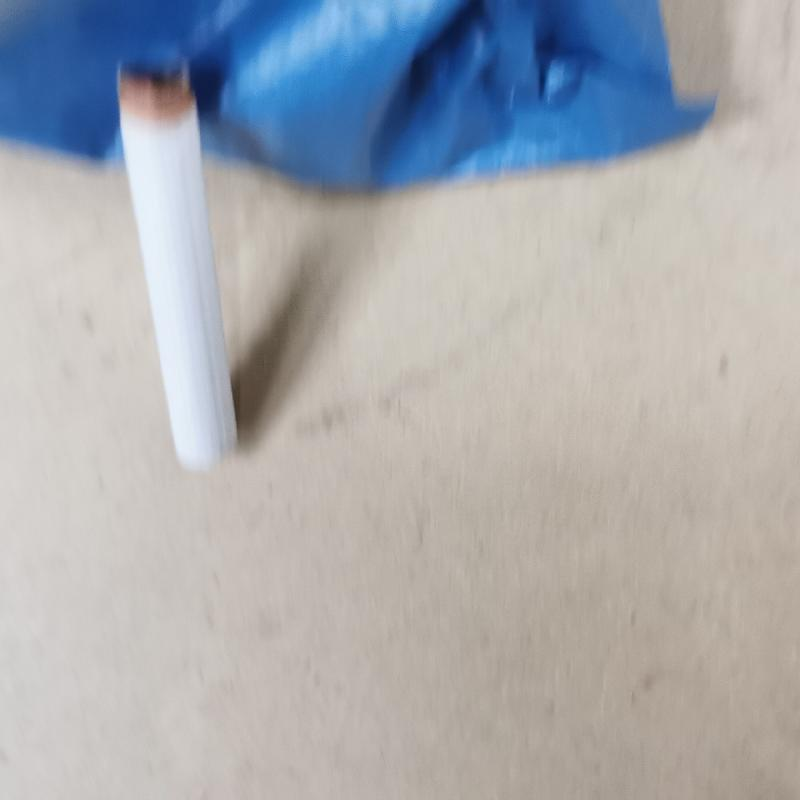cigarette: (103, 58, 248, 471)
